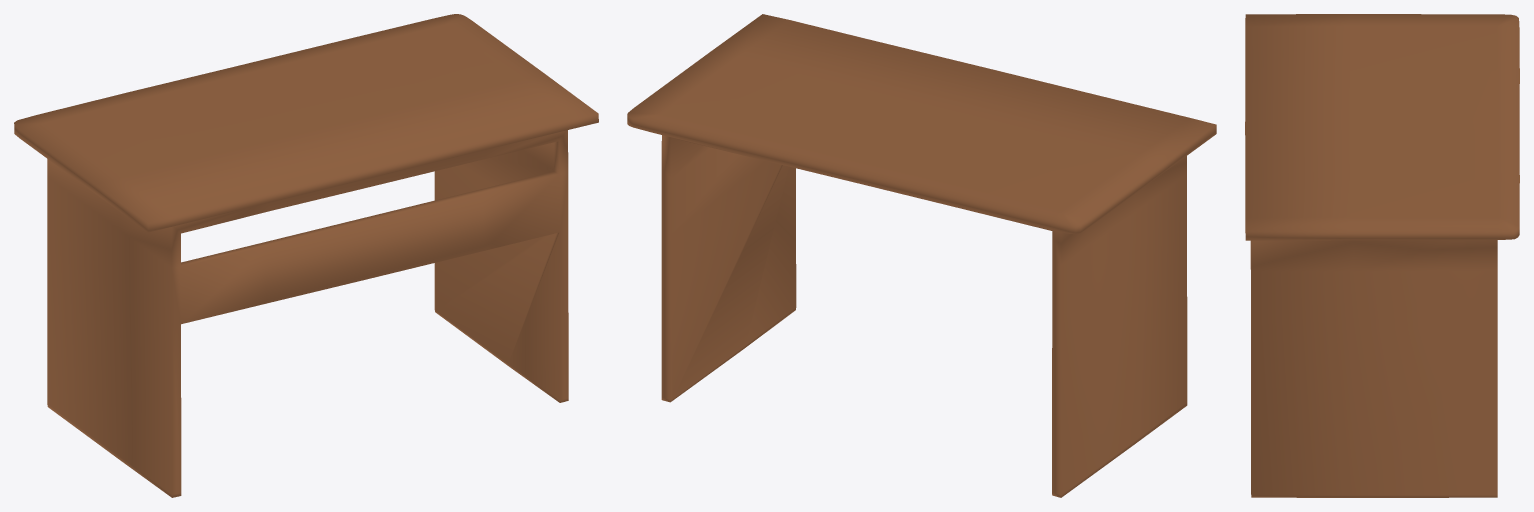
The model's file is table.glb.
The picture shows the model from 3 angles, left to right: view 1: azimuth 30°, elevation 25°; view 2: azimuth 150°, elevation 25°; view 3: azimuth 270°, elevation 25°; orthographic projection. The views are drawn at different scales.
Visible parts, largest first — view 1: Object_2_Table_0.001; view 2: Object_2_Table_0.001; view 3: Object_2_Table_0.001.
Boxes of the visible parts, <box> form: Object_2_Table_0.001: <box>14,14,598,497</box>; Object_2_Table_0.001: <box>627,14,1216,497</box>; Object_2_Table_0.001: <box>1245,14,1519,497</box>.
Size of the model in its own units: 36.03 by 21.74 by 19.24.
